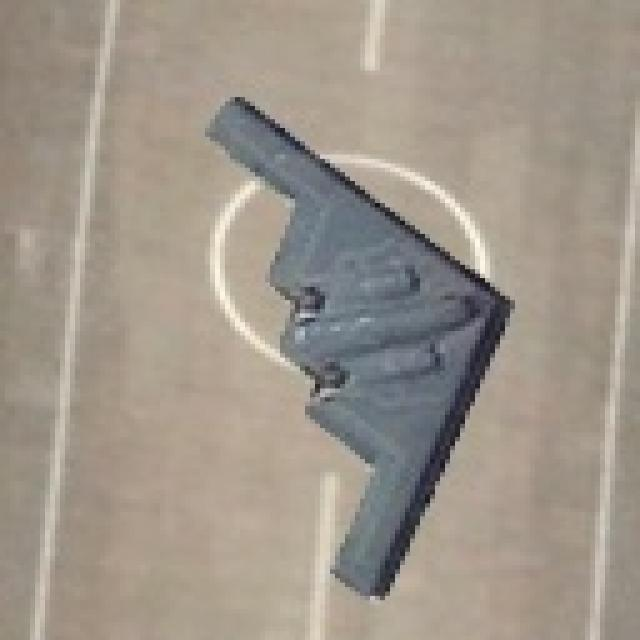B-2_TopDown: (195, 89, 515, 600)
